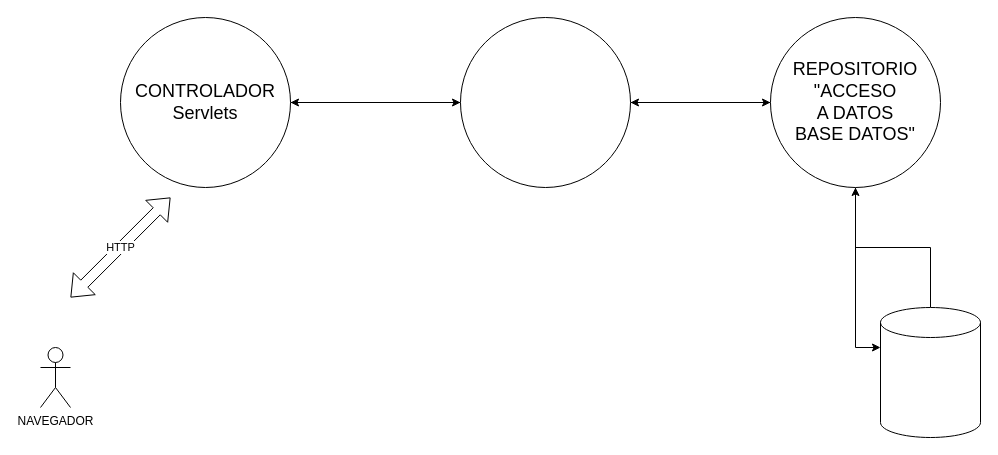
Image size: 998x455. Some labels were removed from this diagram. The centre of each missing label's shape, as x and y in pixels:
ORACLE MYSQL MARIA DB SQL SERVER POSTGRE: point (930, 372)
SERVICIO "NEGOCIO": point (545, 102)
